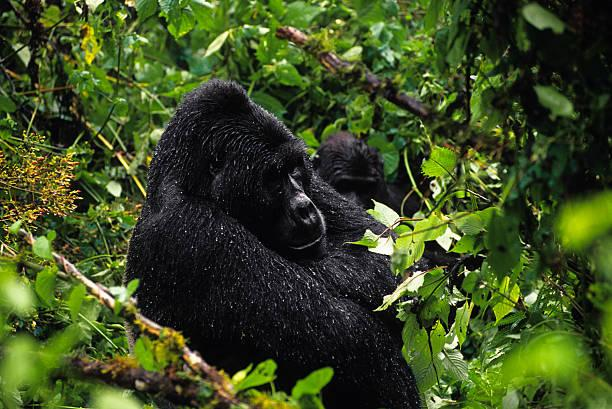goriile_montagne: (129, 78, 395, 401), (316, 122, 402, 200)
